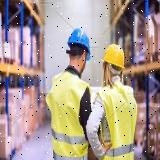Helmet: (66, 28, 91, 62), (101, 43, 125, 70)
Vest: (46, 72, 92, 160), (95, 81, 138, 160)
